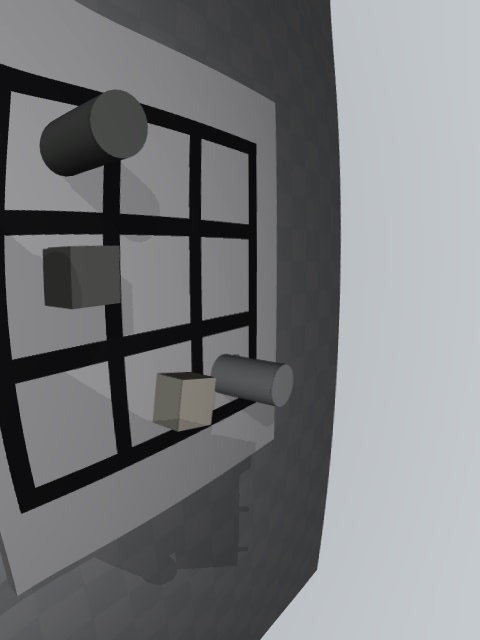can: (210, 354, 293, 407)
cube: (43, 245, 121, 309)
cylinder: (39, 89, 148, 177)
foam: (153, 372, 216, 432)
